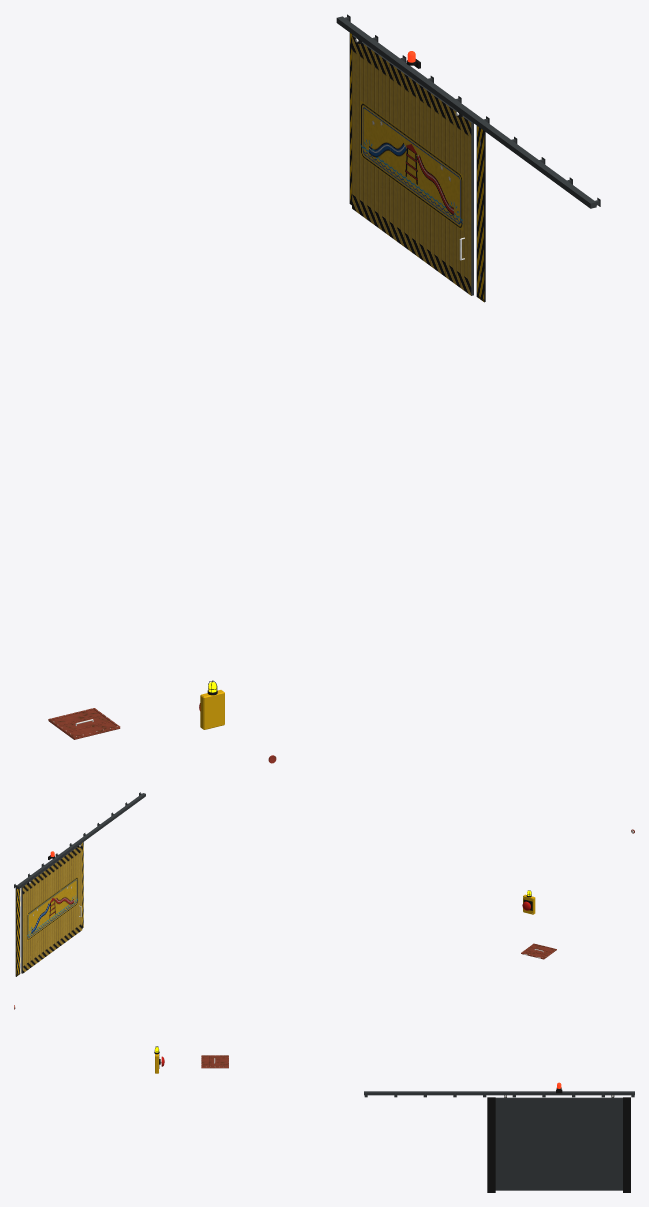
Rendered from sala_interattivi_monumento.glb.
The picture shows the model from 3 angles, top to bottom: view 1: azimuth 30°, elevation 25°; view 2: azimuth 150°, elevation 25°; view 3: azimuth 270°, elevation 25°; orthographic projection. The views are drawn at different scales.
Visible parts, largest first — view 1: sala_portone_torre, sala_portone_torre_telaio, sala_portello_scarico; view 2: sala_portone_torre, sala_portone_torre_telaio, sala_portello_scarico; view 3: sala_portone_torre, sala_portone_torre_telaio, sala_portello_scarico.
Boxes of the visible parts, bbox=[...] form: sala_portone_torre: bbox=[352, 35, 473, 295]; sala_portone_torre_telaio: bbox=[336, 14, 600, 302]; sala_portello_scarico: bbox=[48, 708, 120, 739]; sala_portone_torre: bbox=[21, 843, 82, 973]; sala_portone_torre_telaio: bbox=[14, 792, 145, 976]; sala_portello_scarico: bbox=[521, 943, 556, 959]; sala_portone_torre: bbox=[495, 1095, 622, 1190]; sala_portone_torre_telaio: bbox=[364, 1087, 634, 1192]; sala_portello_scarico: bbox=[201, 1055, 228, 1068].
Size of what is drawn, in the model's own units: 20.71 by 8.12 by 30.72.
11 materials, 5 textured.
